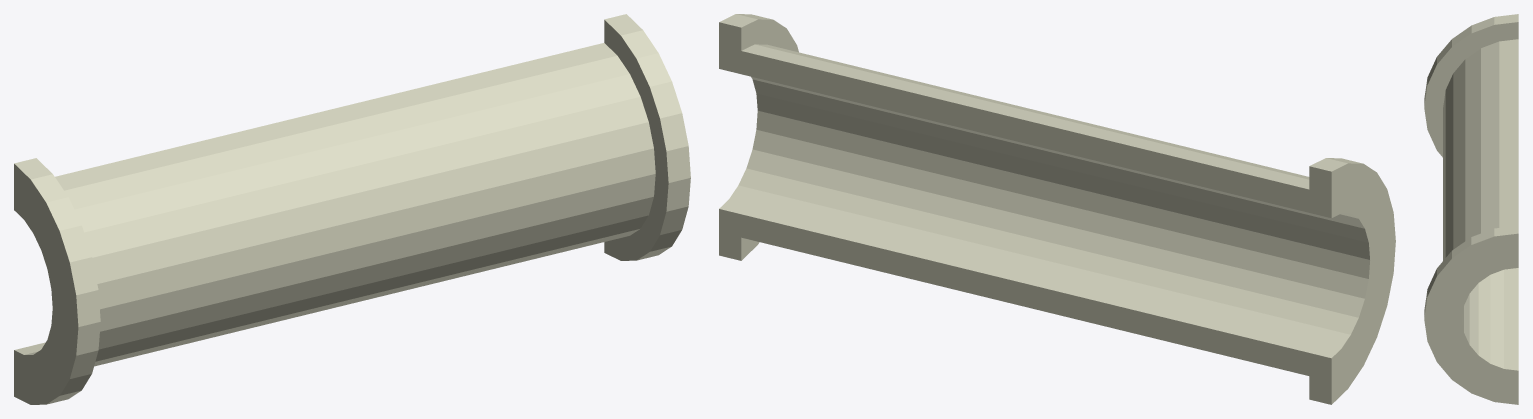
File: section_116.obj
The picture shows the model from 3 angles, left to right: view 1: azimuth 30°, elevation 25°; view 2: azimuth 150°, elevation 25°; view 3: azimuth 270°, elevation 25°; orthographic projection. The views are drawn at different scales.
Size of the model in its own units: 27.47 by 10 by 5.
